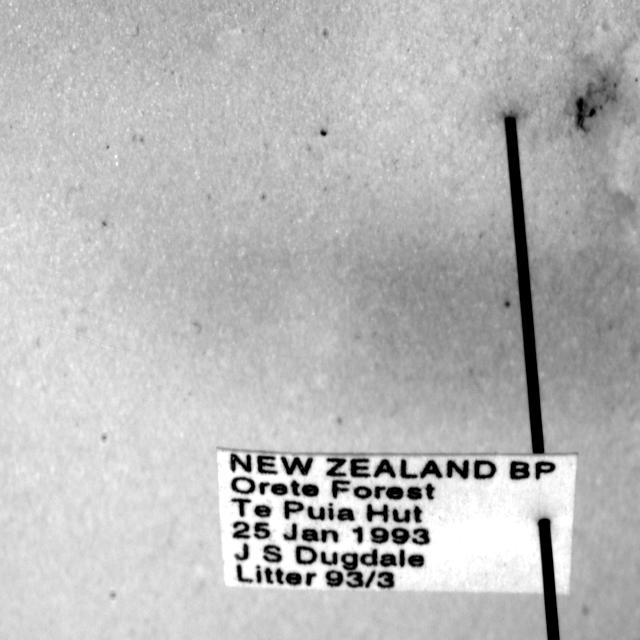typed_label: (218, 448, 578, 594)
